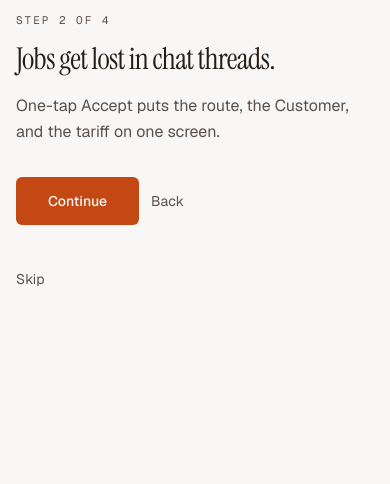
Test: Onboarding insight + personalization (slice 02 contract) › result screen routes rider to /rider and persists answers
Click the button "Continue". click: point(78, 200)
box: [16,176,139,224]
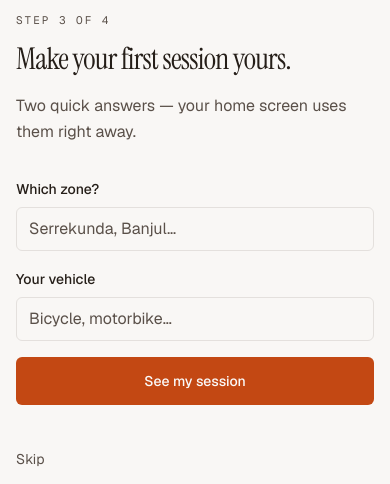
Type "Serrekunda" into the field labelled "Which zone?". click: point(195, 228)
box: [16,206,374,250]
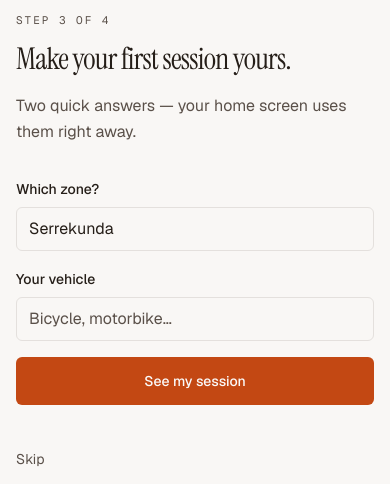
Type "Test detail" into the field labelled "Your vehicle". click: point(195, 318)
box: [16,296,374,340]
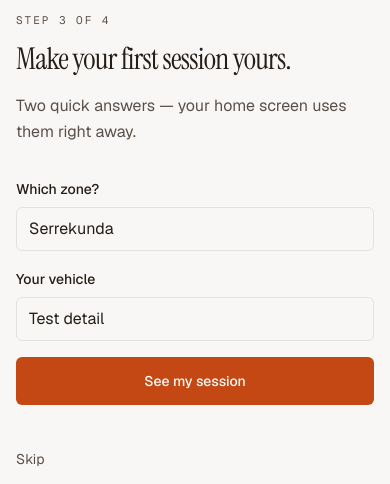
Click the button "See my session". click: point(195, 380)
box: [16,356,374,404]
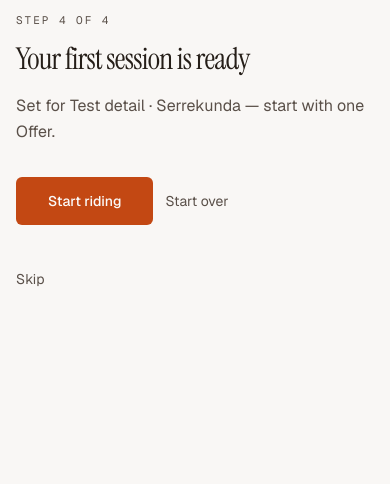
Expected: the heading "Your first session is ready" is shown, [16,38,250,78]
